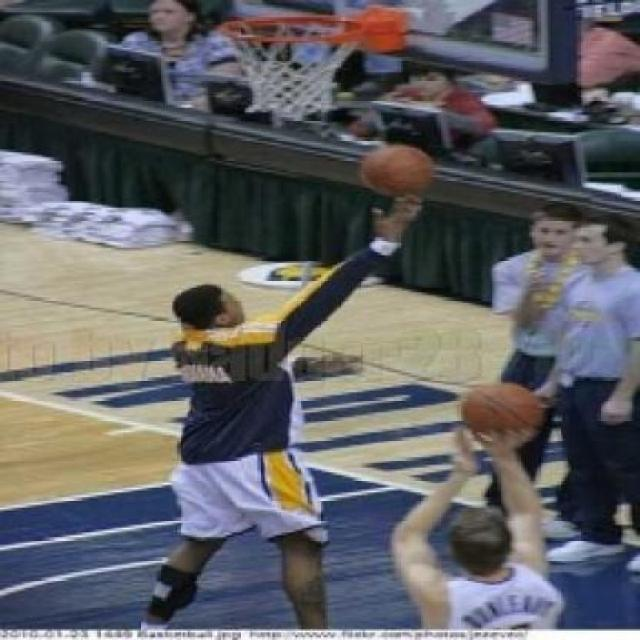basketball: (354, 134, 444, 208), (456, 374, 548, 442)
rim: (226, 17, 358, 128)
